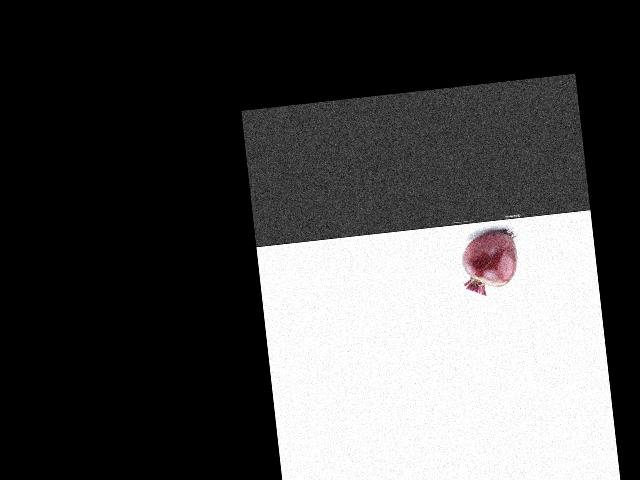beet: (458, 229, 520, 297)
